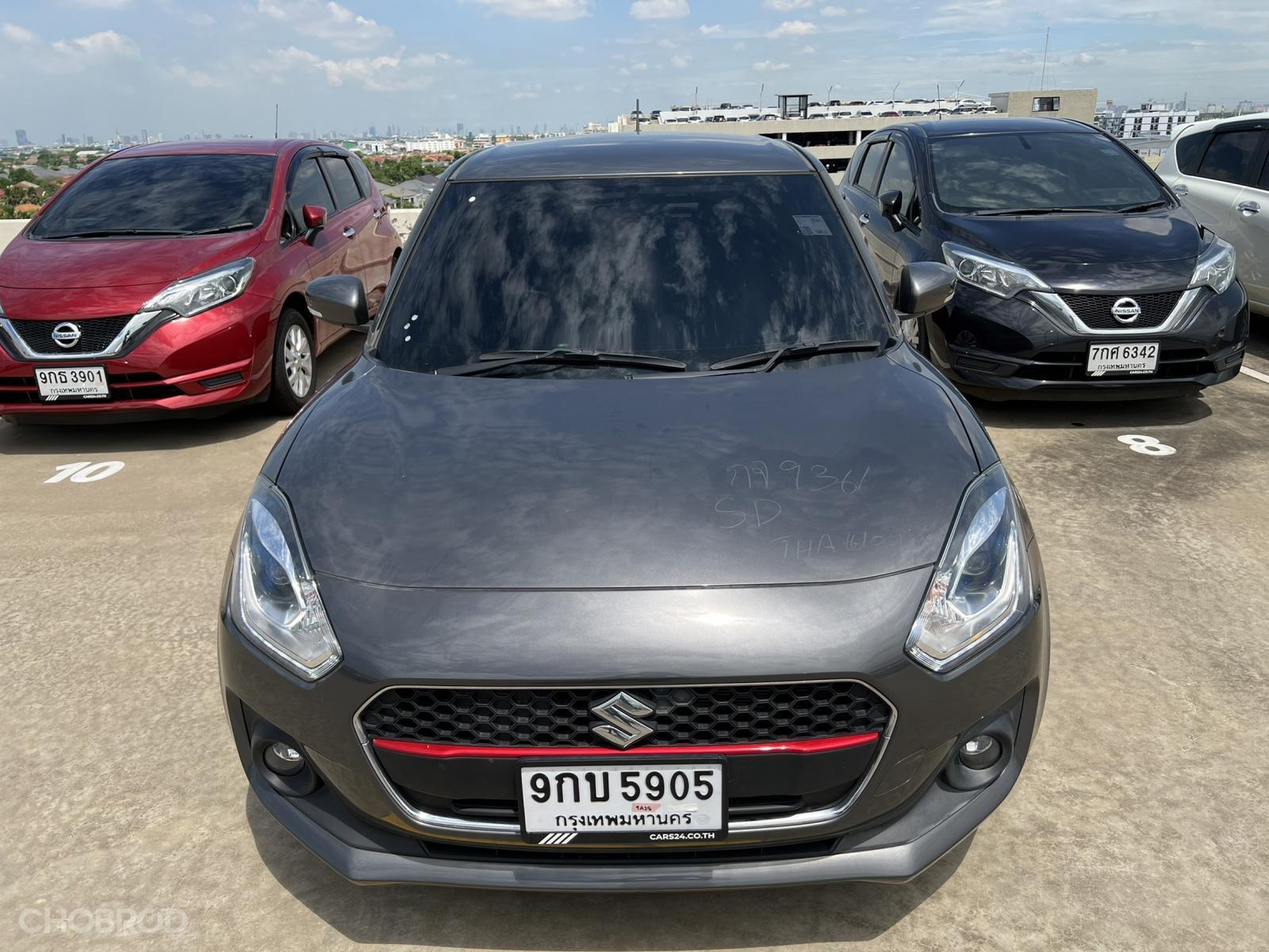license-plate: (519, 763, 728, 852), (37, 362, 114, 402), (1084, 340, 1169, 375)
